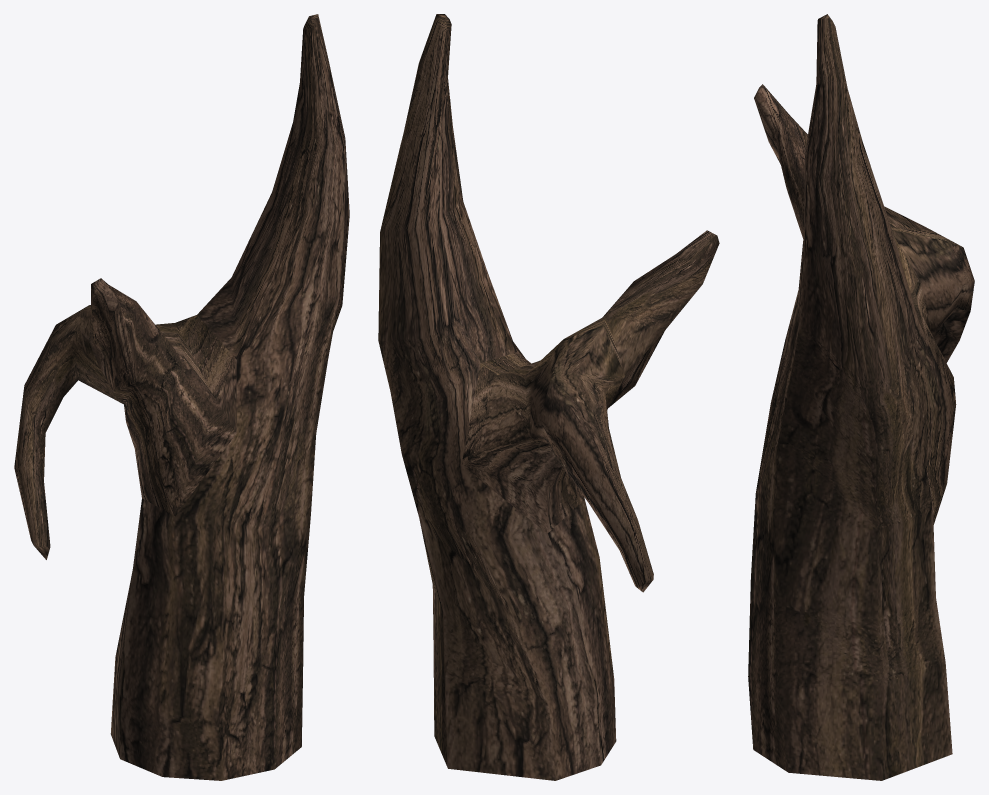
Rendered from obstacle_tree1.fbx.
3 renders of one model, left to right at view 1: azimuth 30°, elevation 25°; view 2: azimuth 150°, elevation 25°; view 3: azimuth 270°, elevation 25°, orthographic. The views are drawn at different scales.
Parts seen in each view (by area): view 1: tree_1Tile; view 2: tree_1Tile; view 3: tree_1Tile.
Boxes of the visible parts, x1=… form: tree_1Tile: x1=14, y1=14, x2=349, y2=780; tree_1Tile: x1=378, y1=14, x2=719, y2=780; tree_1Tile: x1=748, y1=14, x2=974, y2=780.
Bounding box in the file's own units: 98.12 × 224 × 59.5.
